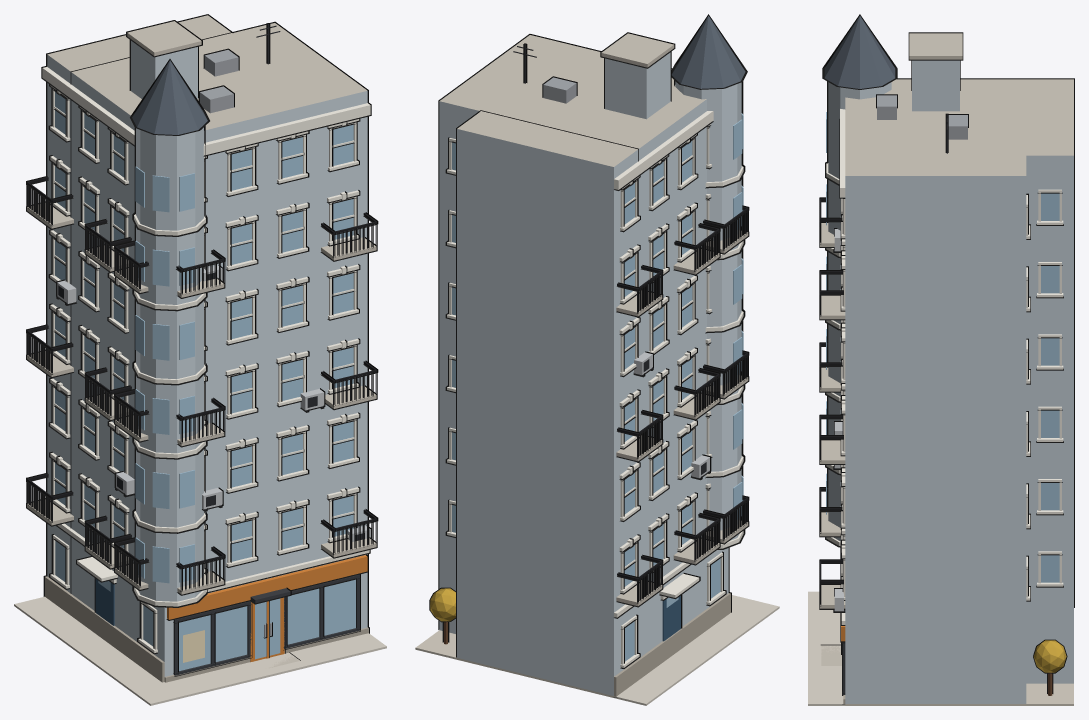
File: Blok_kose_7k_3.fbx
The picture shows the model from 3 angles, left to right: view 1: azimuth 30°, elevation 25°; view 2: azimuth 150°, elevation 25°; view 3: azimuth 270°, elevation 25°; orthographic projection. The views are drawn at different scales.
Parts seen in each view (by area): view 1: Blok_kose_7k_3; view 2: Blok_kose_7k_3; view 3: Blok_kose_7k_3.
Part boxes in pixels (x1,y1,x2,y2): Blok_kose_7k_3: (14, 14, 386, 705); Blok_kose_7k_3: (415, 14, 779, 705); Blok_kose_7k_3: (808, 14, 1074, 705).
Bounding box in the file's own units: 10.03 × 25.01 × 10.03.
